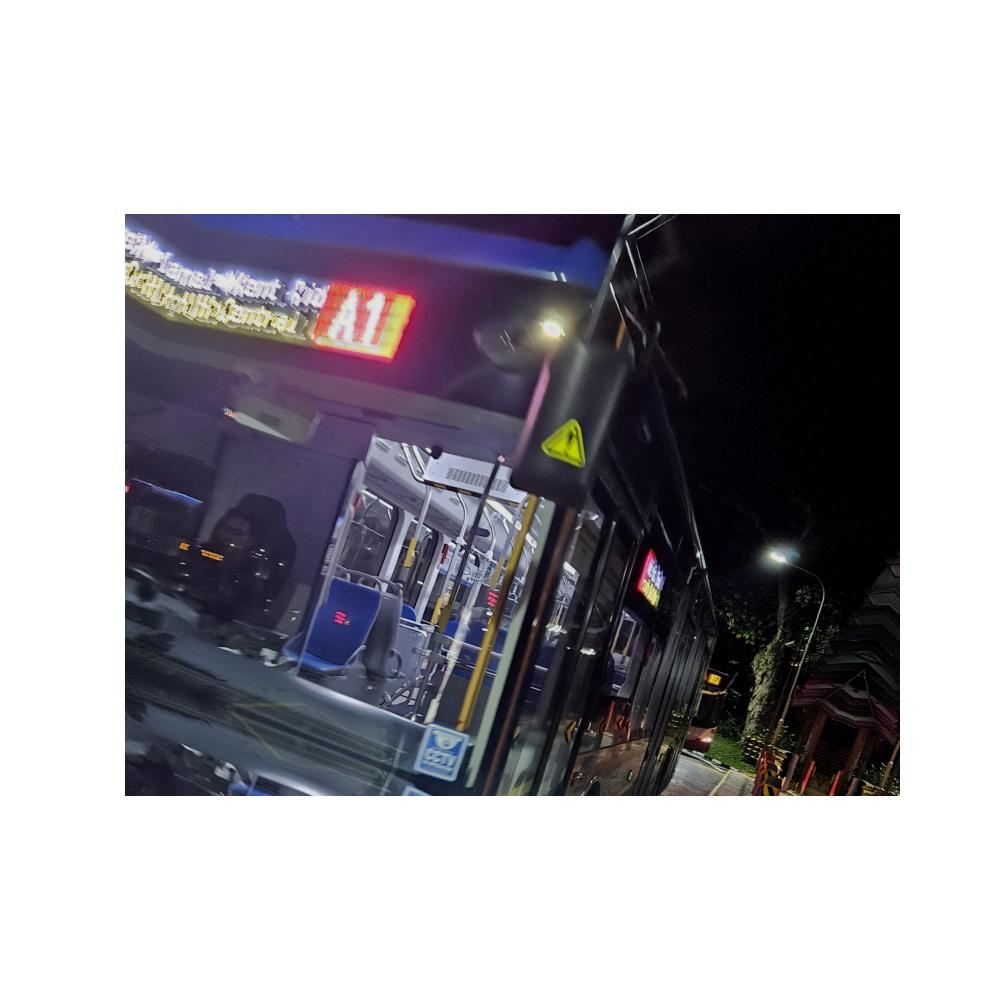bus: (127, 215, 711, 794)
